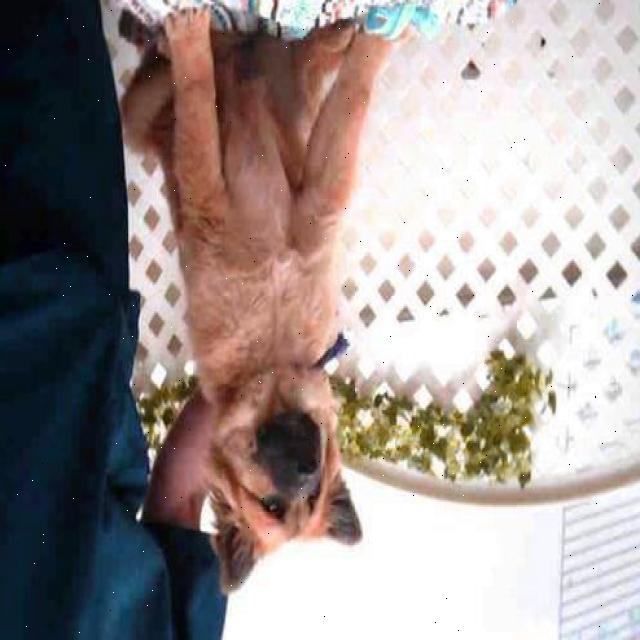Dog: (205, 392, 366, 606)
